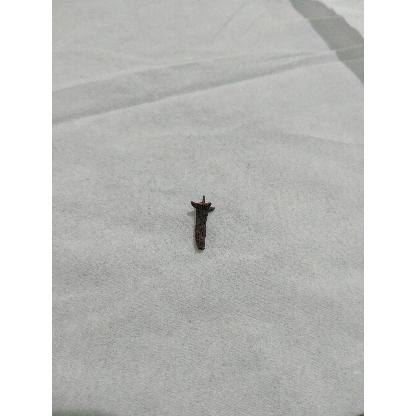buruk: (191, 195, 215, 253)
